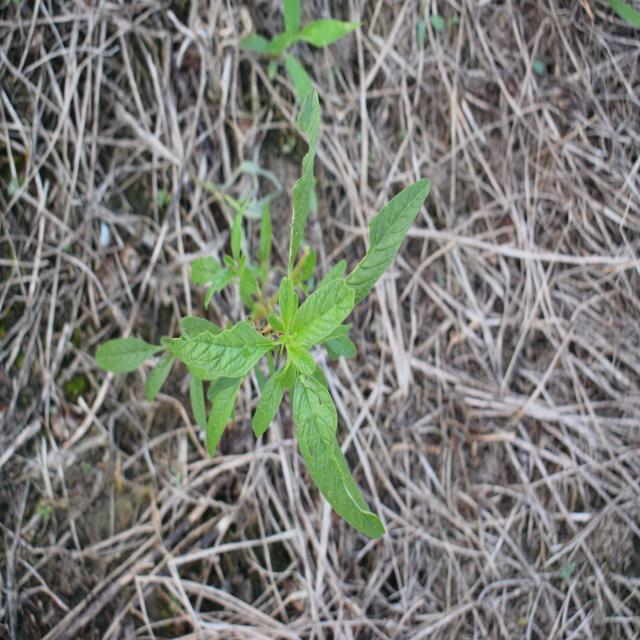Waterhemp: (93, 87, 432, 544)
